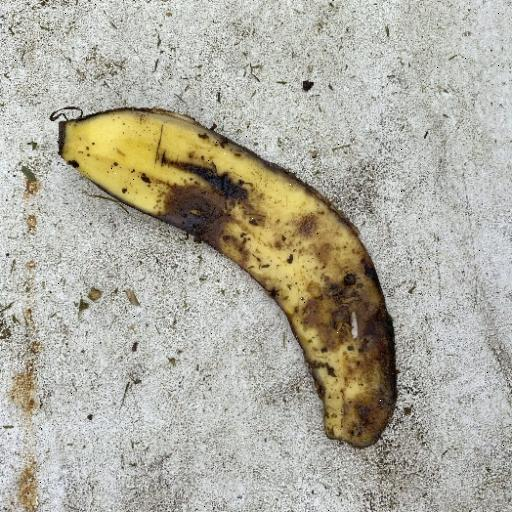Waste: (50, 104, 400, 450)
